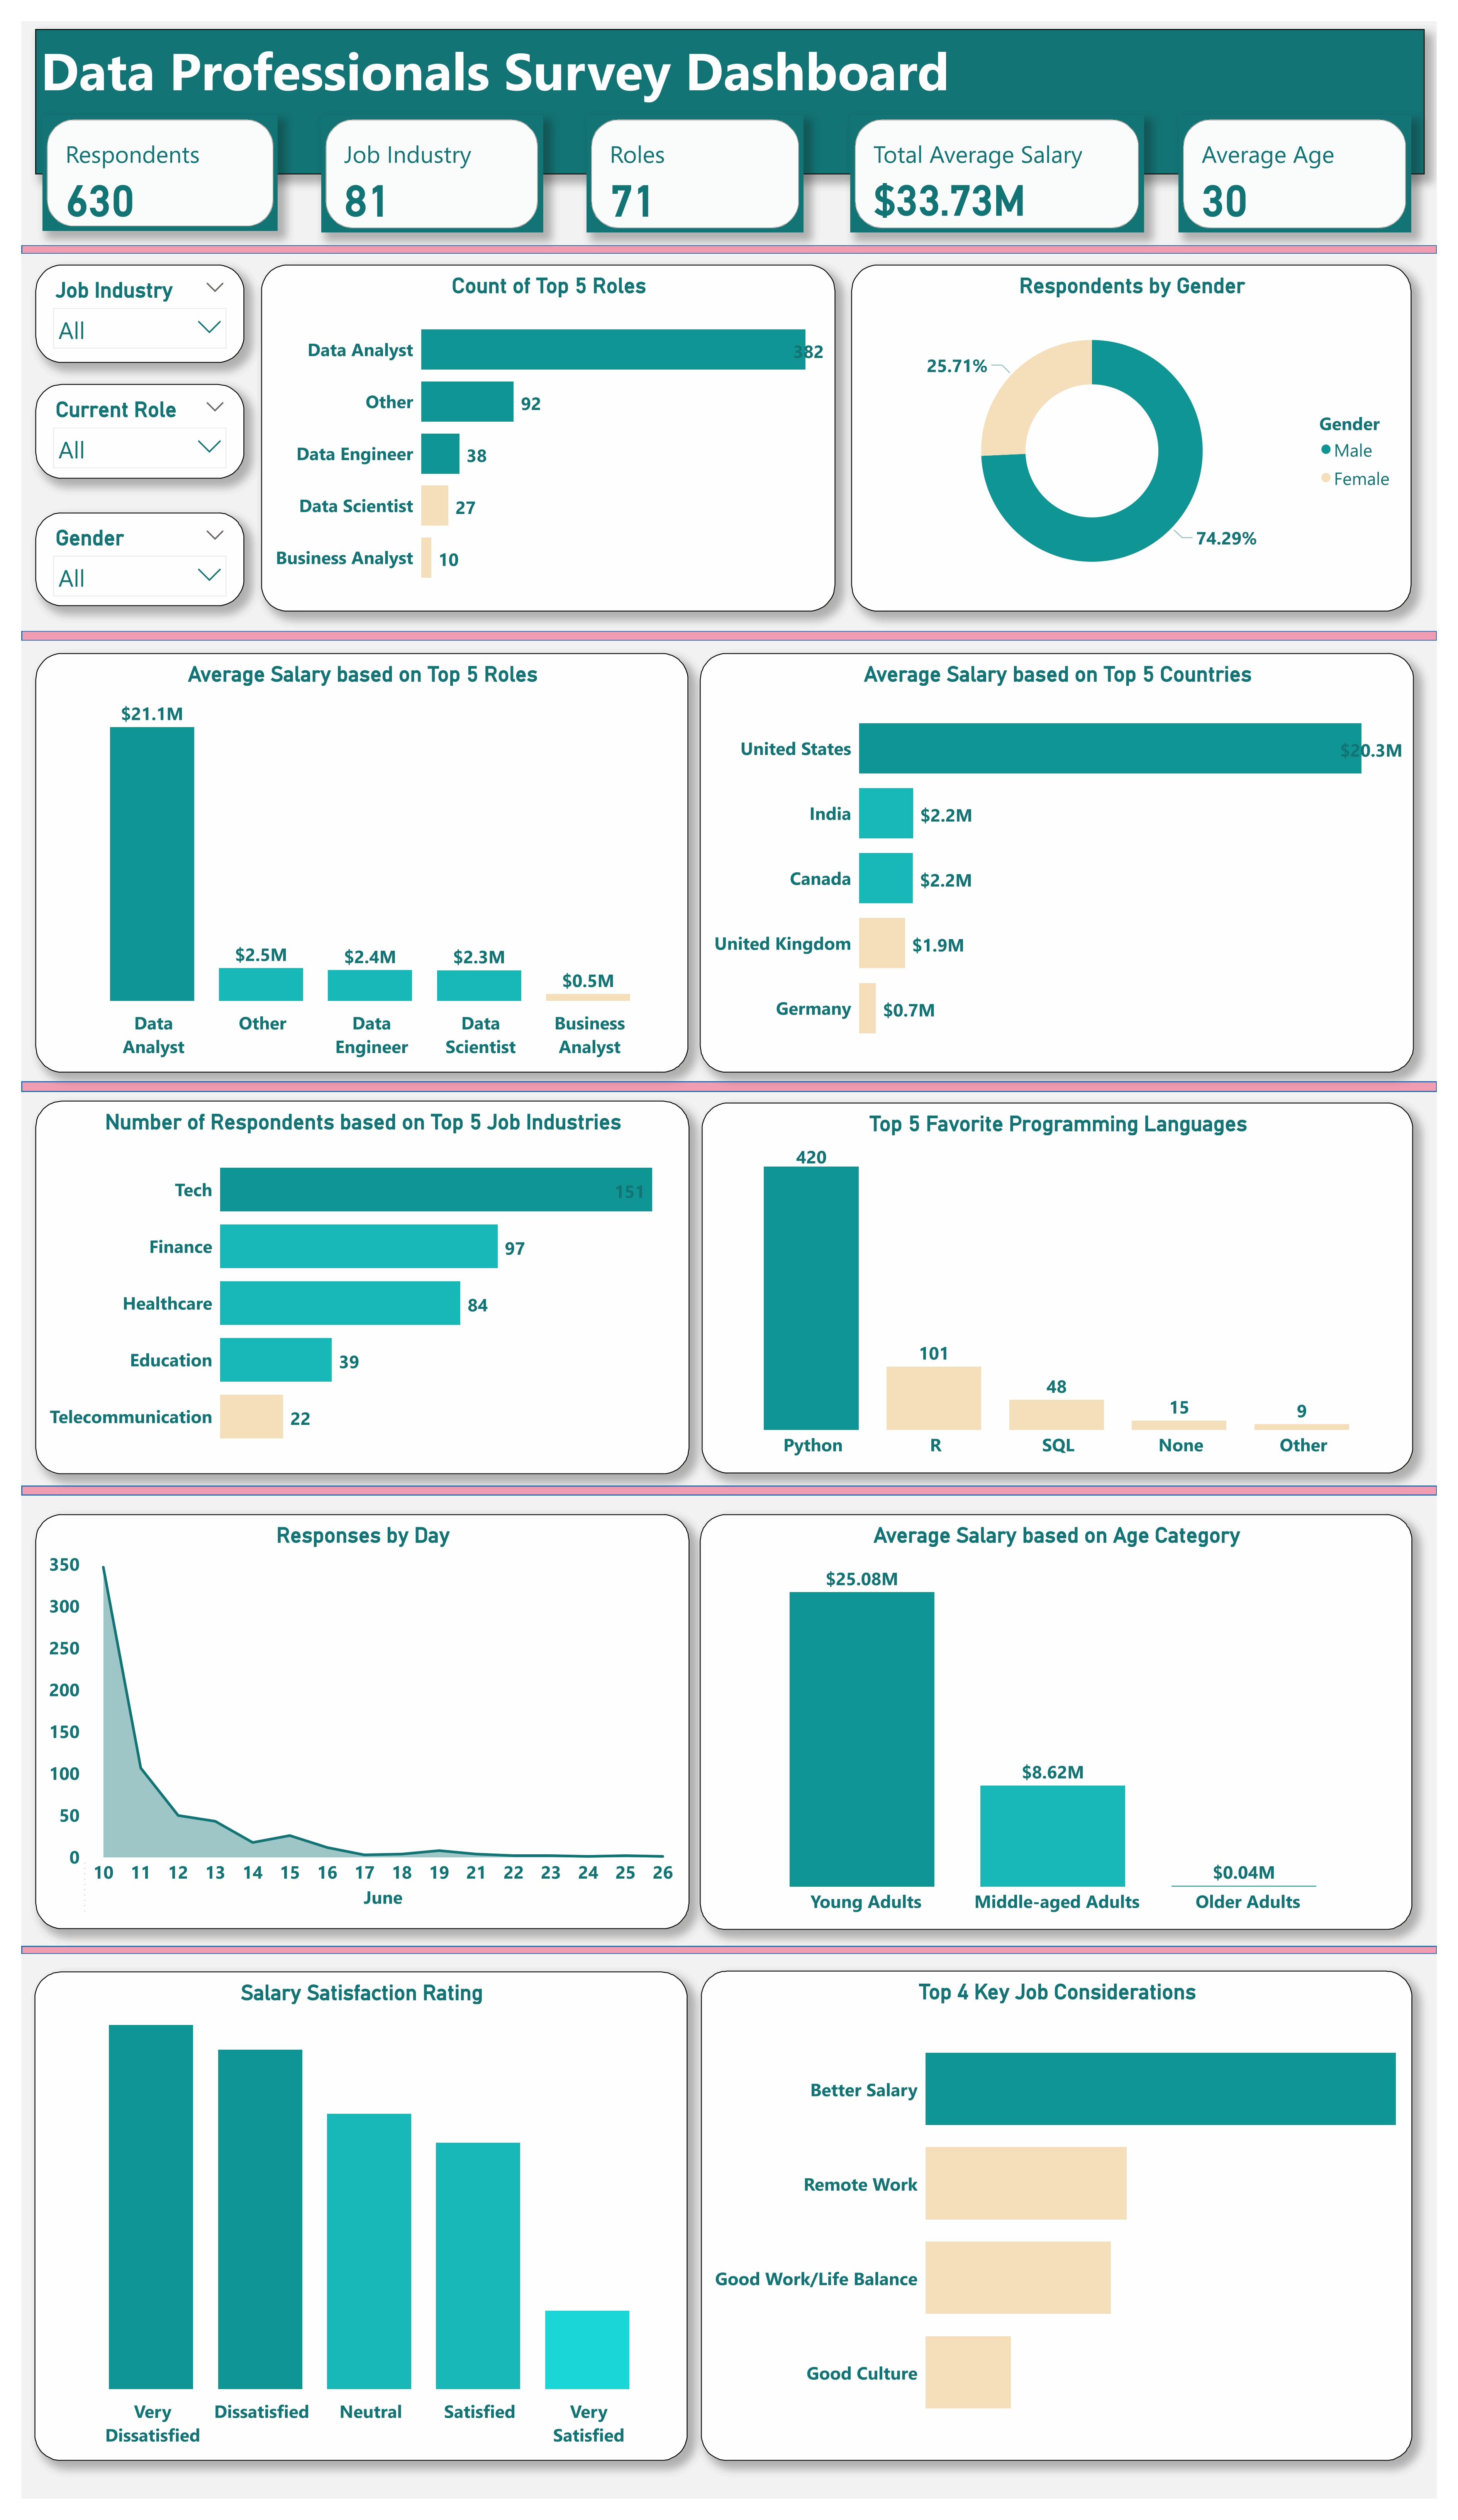

What the dashboard file says about the page in this screenshot:
{"tool":"powerbi","page":{"name":"Overview","canvas":[1600,2800],"ordinal":0},"visuals":[{"type":"textbox","box":[16.4,9.1,1570.9,161.8],"z":0},{"type":"slicer","fields":{"Values":["Data Professional Survey.Job Industry"]},"box":[16.1,261.3,235.5,124.2],"z":1000},{"type":"slicer","fields":{"Values":["Data Professional Survey.Current Role"]},"box":[16.1,409.7,235.5,121],"z":2000},{"type":"slicer","fields":{"Values":["Data Professional Survey.Gender"]},"box":[16.1,561.3,235.5,122.6],"z":3000},{"type":"cardVisual","fields":{"Data":["Count(Data Professional Survey.Unique ID)"]},"box":[23.5,105.9,266.7,131.4],"z":4000},{"type":"cardVisual","fields":{"Data":["Count(Data Professional Survey.Job Industry)"]},"box":[339.2,105.9,251,133.3],"z":5000},{"type":"cardVisual","fields":{"Data":["Count(Data Professional Survey.Current Role)"]},"box":[639.2,105.9,245.1,133.3],"z":6000},{"type":"cardVisual","fields":{"Data":["Sum(Data Professional Survey.Average Salary)"]},"box":[937.3,105.9,331.4,133.3],"z":7000},{"type":"cardVisual","fields":{"Data":["Avg(Data Professional Survey.Age)"]},"box":[1307.8,105.9,262.7,133.3],"z":8000},{"type":"barChart","title":"Count of Top 5 Roles","fields":{"Category":["Data Professional Survey.Current Role"],"Y":["CountNonNull(Data Professional Survey.Unique ID)"]},"box":[271,259.7,650,424.2],"z":9000},{"type":"donutChart","title":"Count of Respondents by Gender","fields":{"Y":["Count(Data Professional Survey.Unique ID)"],"Category":["Data Professional Survey.Gender"]},"box":[937,261.1,633.3,422.2],"z":10000},{"type":"clusteredColumnChart","title":"Top 5 Roles by Average Salary","fields":{"Category":["Data Professional Survey.Current Role"],"Y":["Sum(Data Professional Survey.Average Salary)"]},"box":[15.6,700,737.8,508.9],"z":11000},{"type":"barChart","title":"Top 10 Residence countries by Average Salary","fields":{"Category":["Data Professional Survey.Residence Country"],"Y":["Sum(Data Professional Survey.Average Salary)"]},"box":[766.7,700,803,509.1],"z":12000},{"type":"barChart","title":"Top 10 Job Industries by Number of Respondents","fields":{"Category":["Data Professional Survey.Job Industry"],"Y":["Count(Data Professional Survey.Unique ID)"]},"box":[15.6,1220,740,444.4],"z":13000},{"type":"columnChart","title":"Count of Favorite Programming Language","fields":{"Category":["Data Professional Survey.Favorite Programming Language"],"Y":["CountNonNull(Data Professional Survey.Favorite Programming Language)"]},"box":[763.6,1221.2,809.1,442.4],"z":14000},{"type":"lineChart","title":"Count of Responses by  Day","fields":{"Y":["Count(Data Professional Survey.Unique ID)"],"Category":["Data Professional Survey.Date Taken.Variation.Date Hierarchy.Month","Data Professional Survey.Date Taken.Variation.Date Hierarchy.Day"]},"box":[15.6,1675.6,740,500],"z":15000},{"type":"columnChart","title":"Average Salary by Age Range","fields":{"Category":["Data Professional Survey.Age Range"],"Y":["Sum(Data Professional Survey.Average Salary)"]},"box":[766.7,1675.8,806.1,500],"z":16000},{"type":"columnChart","title":"Count of Salary Satisfaction Rating","fields":{"Category":["Data Professional Survey.Salary Satisfaction Rating"],"Y":["CountNonNull(Data Professional Survey.Unique ID)"]},"box":[15.6,2184.4,740,571.1],"z":17000},{"type":"barChart","title":"Count of Key Job Considerations","fields":{"Category":["Data Professional Survey.Key Job Considerations"],"Y":["CountNonNull(Data Professional Survey.Unique ID)"]},"box":[767.6,2183.4,805.4,572.6],"z":18000}]}

Visuals, with their boxes in screenshot pixels (x1, y1, x2, y2), scaled from the page's 1600x2800 canvas onto the 1458x2520 screenshot:
textbox: [left=15, top=8, right=1446, bottom=154]
slicer - Data Professional Survey.Job Industry: [left=15, top=235, right=229, bottom=347]
slicer - Data Professional Survey.Current Role: [left=15, top=369, right=229, bottom=478]
slicer - Data Professional Survey.Gender: [left=15, top=505, right=229, bottom=616]
cardVisual - Count(Data Professional Survey.Unique ID): [left=21, top=95, right=264, bottom=214]
cardVisual - Count(Data Professional Survey.Job Industry): [left=309, top=95, right=538, bottom=215]
cardVisual - Count(Data Professional Survey.Current Role): [left=583, top=95, right=806, bottom=215]
cardVisual - Sum(Data Professional Survey.Average Salary): [left=854, top=95, right=1156, bottom=215]
cardVisual - Avg(Data Professional Survey.Age): [left=1192, top=95, right=1431, bottom=215]
"Count of Top 5 Roles" barChart: [left=247, top=234, right=839, bottom=616]
"Count of Respondents by Gender" donutChart: [left=854, top=235, right=1431, bottom=615]
"Top 5 Roles by Average Salary" clusteredColumnChart: [left=14, top=630, right=687, bottom=1088]
"Top 10 Residence countries by Average Salary" barChart: [left=698, top=630, right=1430, bottom=1088]
"Top 10 Job Industries by Number of Respondents" barChart: [left=14, top=1098, right=688, bottom=1498]
"Count of Favorite Programming Language" columnChart: [left=696, top=1099, right=1433, bottom=1497]
"Count of Responses by  Day" lineChart: [left=14, top=1508, right=688, bottom=1958]
"Average Salary by Age Range" columnChart: [left=698, top=1508, right=1433, bottom=1958]
"Count of Salary Satisfaction Rating" columnChart: [left=14, top=1966, right=688, bottom=2480]
"Count of Key Job Considerations" barChart: [left=700, top=1965, right=1433, bottom=2480]
